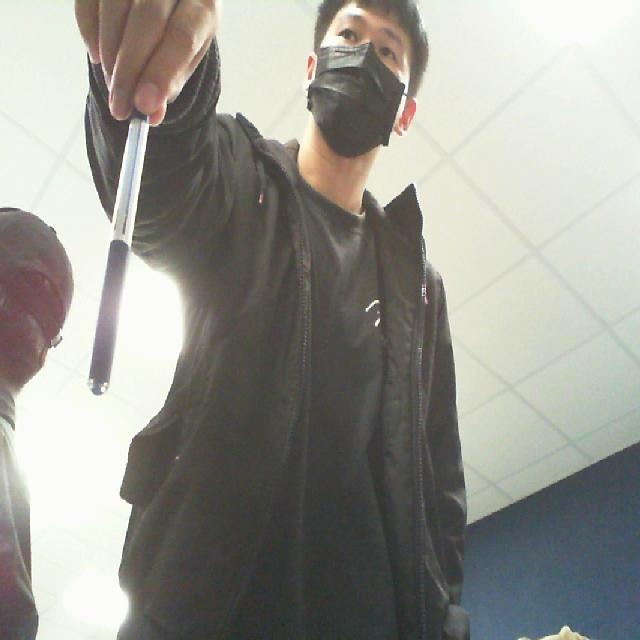Pen: (80, 104, 158, 409)
